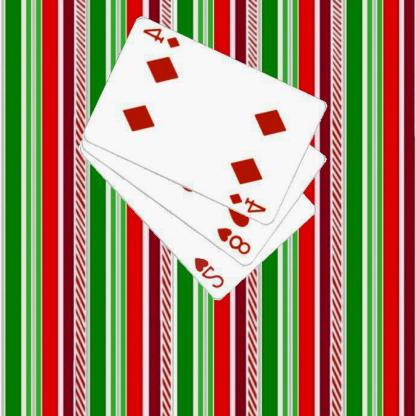2H: (193, 254, 227, 290)
4D: (142, 25, 184, 50), (228, 190, 269, 215)
8H: (215, 225, 254, 256)
